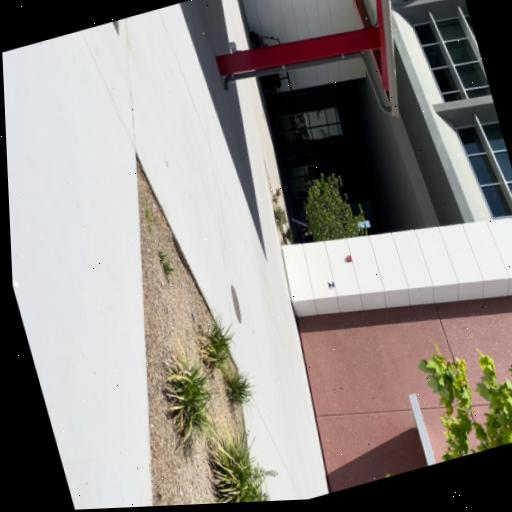target9: (328, 279, 336, 291)
